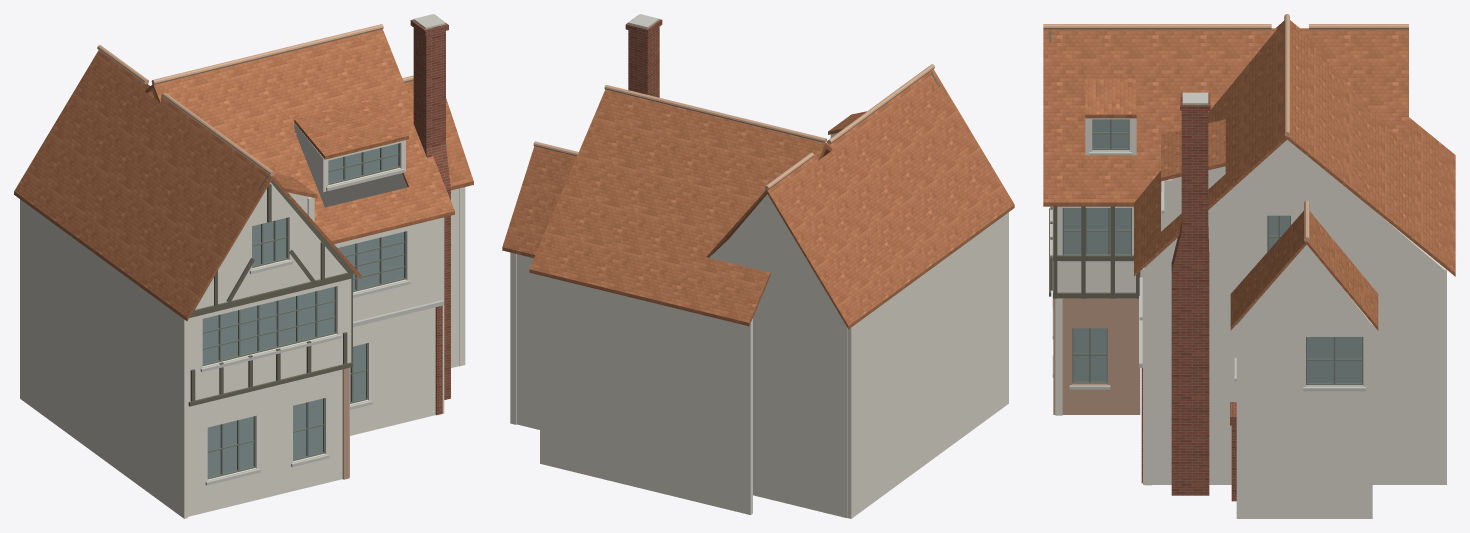
File: changning-xinhua-236-english-garden-villa-raw.glb
The picture shows the model from 3 angles, left to right: view 1: azimuth 30°, elevation 25°; view 2: azimuth 150°, elevation 25°; view 3: azimuth 270°, elevation 25°; orthographic projection. The views are drawn at different scales.
Parts seen in each view (by area): view 1: 新华路236号住宅木格山墙、双老虎窗与砖烟囱; view 2: 新华路236号住宅木格山墙、双老虎窗与砖烟囱; view 3: 新华路236号住宅木格山墙、双老虎窗与砖烟囱.
Boxes of the visible parts, box(x1,y1,x2,y2) form: 新华路236号住宅木格山墙、双老虎窗与砖烟囱: box(14, 14, 473, 518); 新华路236号住宅木格山墙、双老虎窗与砖烟囱: box(502, 14, 1014, 518); 新华路236号住宅木格山墙、双老虎窗与砖烟囱: box(1043, 14, 1455, 518).
Bounding box in the file's own units: 12.23 × 11.59 × 11.02.
9 materials, 2 textured.
